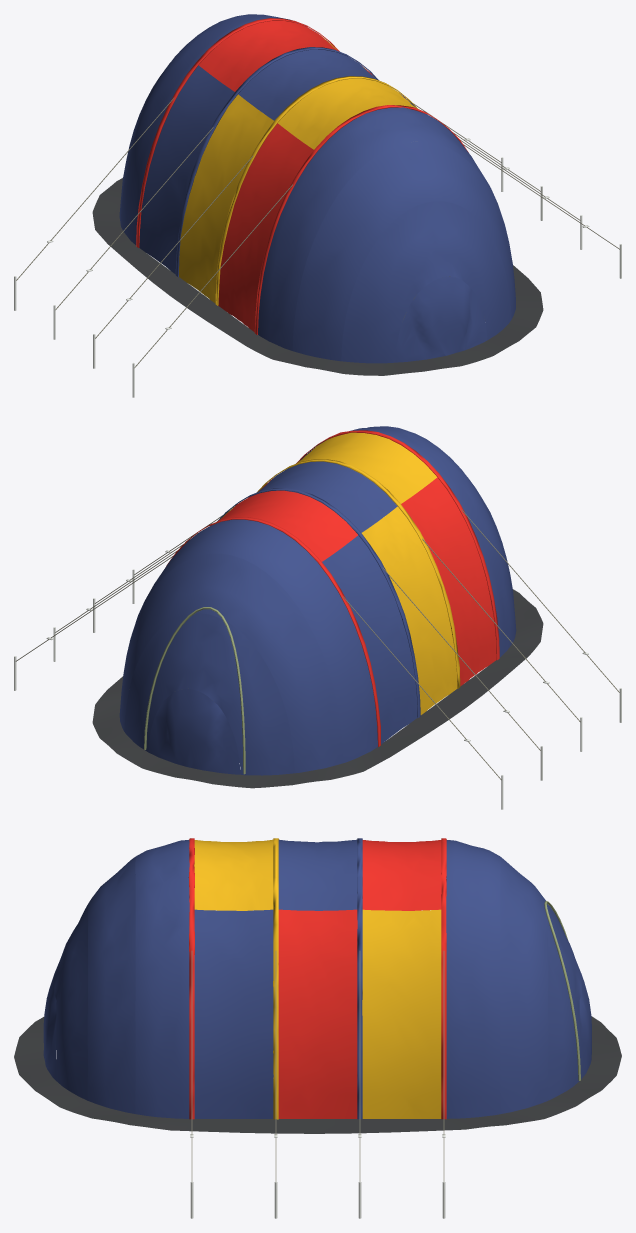
The model's file is endurance-camp.glb.
3 renders of one model, top to bottom at view 1: azimuth 30°, elevation 25°; view 2: azimuth 150°, elevation 25°; view 3: azimuth 270°, elevation 25°, orthographic. The views are drawn at different scales.
Visible parts, largest first — view 1: ENDURANCE_shelter; view 2: ENDURANCE_shelter; view 3: ENDURANCE_shelter.
Boxes of the visible parts, box(x1,y1,x2,y2) form: ENDURANCE_shelter: box(14, 14, 621, 397); ENDURANCE_shelter: box(14, 426, 621, 809); ENDURANCE_shelter: box(14, 838, 621, 1218).
Bounding box in the file's own units: 5.42 × 2.44 × 5.49.
